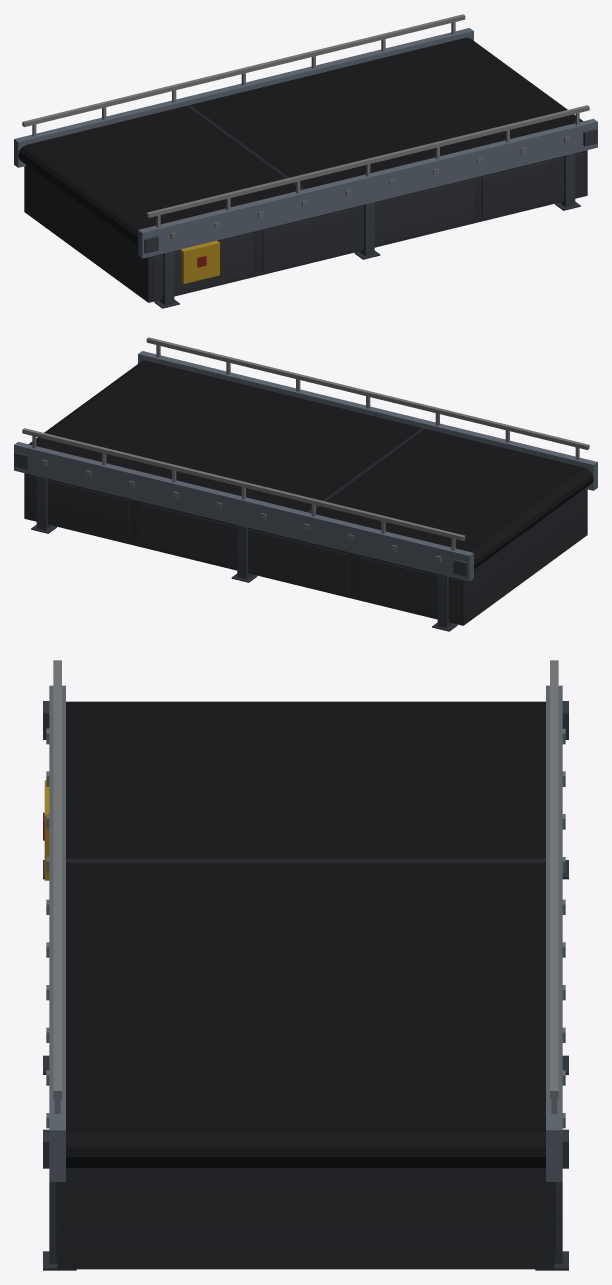
Rendered from conveyor.belt.bare.glb.
3 views of the same model, one above another, from view 1: azimuth 30°, elevation 25°; view 2: azimuth 150°, elevation 25°; view 3: azimuth 270°, elevation 25° (orthographic). The views are drawn at different scales.
Visible parts, largest first — view 1: conveyor_belt_bare; view 2: conveyor_belt_bare; view 3: conveyor_belt_bare.
Boxes of the visible parts, x1,y1,x2,y2 form: conveyor_belt_bare: (14, 14, 597, 308); conveyor_belt_bare: (14, 337, 597, 631); conveyor_belt_bare: (43, 660, 568, 1270).
Size of what is drawn, in the model's own units: 5 by 1 by 2.5.
